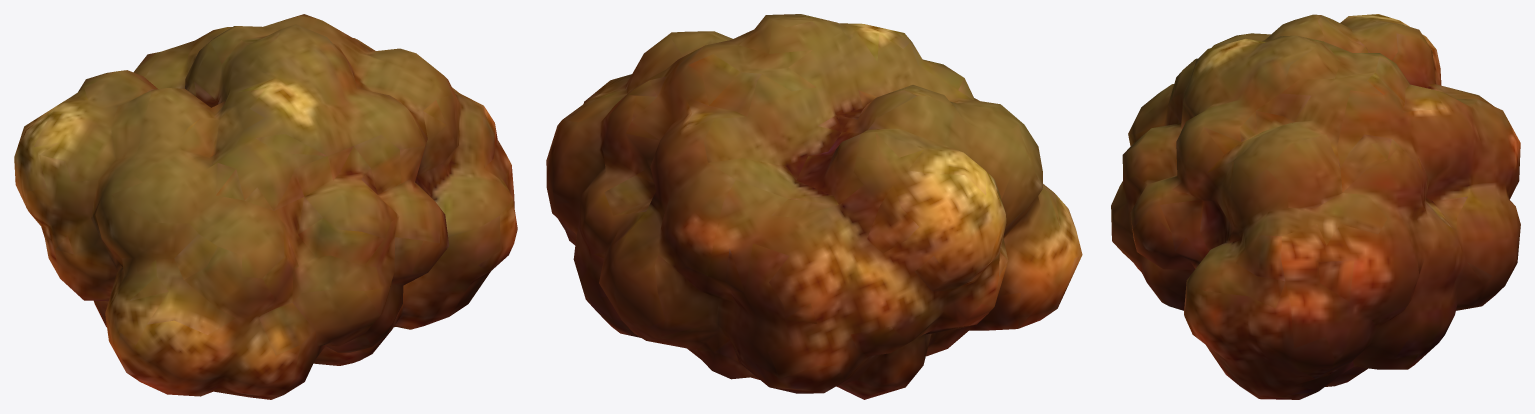
The model's file is bush_autumn_b_lod1.glb.
3 views of the same model, side by side, from view 1: azimuth 30°, elevation 25°; view 2: azimuth 150°, elevation 25°; view 3: azimuth 270°, elevation 25° (orthographic). The views are drawn at different scales.
Visible parts, largest first — view 1: bush_autumn_b_low1; view 2: bush_autumn_b_low1; view 3: bush_autumn_b_low1.
Boxes of the visible parts, <box> form: bush_autumn_b_low1: <box>14,14,517,399</box>; bush_autumn_b_low1: <box>546,14,1082,399</box>; bush_autumn_b_low1: <box>1111,14,1520,399</box>.
Bounding box in the file's own units: 1.44 × 1.04 × 1.19.
1 material, 1 textured.
